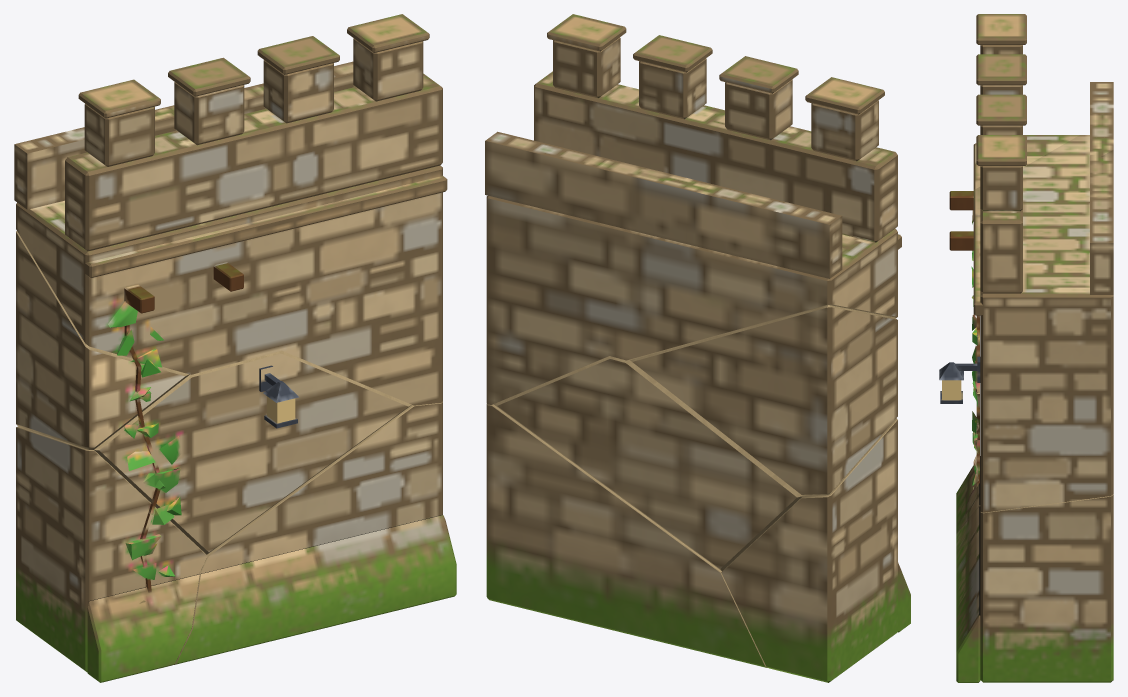
File: Kit_Gate_Wall_Fractured.fbx
3 renders of one model, left to right at view 1: azimuth 30°, elevation 25°; view 2: azimuth 150°, elevation 25°; view 3: azimuth 270°, elevation 25°, orthographic. The views are drawn at different scales.
Visible parts, largest first — view 1: Kit_Gate_Wall_frag_03, Kit_Gate_Wall_frag_07, Kit_Gate_Wall_frag_01, Kit_Gate_Wall_frag_05, Kit_Gate_Wall_frag_06, Kit_Gate_Wall_frag_02, Kit_Gate_Wall_frag_04; view 2: Kit_Gate_Wall_frag_03, Kit_Gate_Wall_frag_07, Kit_Gate_Wall_frag_04, Kit_Gate_Wall_frag_01, Kit_Gate_Wall_frag_06, Kit_Gate_Wall_frag_05, Kit_Gate_Wall_frag_02; view 3: Kit_Gate_Wall_frag_03, Kit_Gate_Wall_frag_07, Kit_Gate_Wall_frag_01, Kit_Gate_Wall_frag_02, Kit_Gate_Wall_frag_06, Kit_Gate_Wall_frag_05.
Boxes of the visible parts, x1,y1,x2,y2 form: Kit_Gate_Wall_frag_03: (235, 14, 447, 405); Kit_Gate_Wall_frag_07: (174, 401, 456, 664); Kit_Gate_Wall_frag_01: (14, 57, 262, 289); Kit_Gate_Wall_frag_05: (16, 426, 207, 682); Kit_Gate_Wall_frag_06: (94, 350, 411, 554); Kit_Gate_Wall_frag_02: (14, 105, 281, 377); Kit_Gate_Wall_frag_04: (16, 231, 189, 449); Kit_Gate_Wall_frag_03: (485, 14, 727, 404); Kit_Gate_Wall_frag_07: (486, 404, 767, 667); Kit_Gate_Wall_frag_04: (630, 305, 897, 495); Kit_Gate_Wall_frag_01: (677, 56, 901, 267); Kit_Gate_Wall_frag_06: (494, 356, 802, 570); Kit_Gate_Wall_frag_05: (721, 418, 910, 682); Kit_Gate_Wall_frag_02: (609, 181, 897, 360); Kit_Gate_Wall_frag_03: (973, 94, 1113, 512); Kit_Gate_Wall_frag_07: (956, 494, 1113, 682); Kit_Gate_Wall_frag_01: (973, 14, 1113, 189); Kit_Gate_Wall_frag_02: (949, 135, 1113, 287); Kit_Gate_Wall_frag_06: (939, 314, 980, 435); Kit_Gate_Wall_frag_05: (956, 411, 980, 533).
Size of what is drawn, in the model's own units: 4 by 5.98 by 1.83.
2 materials, 2 textured.
